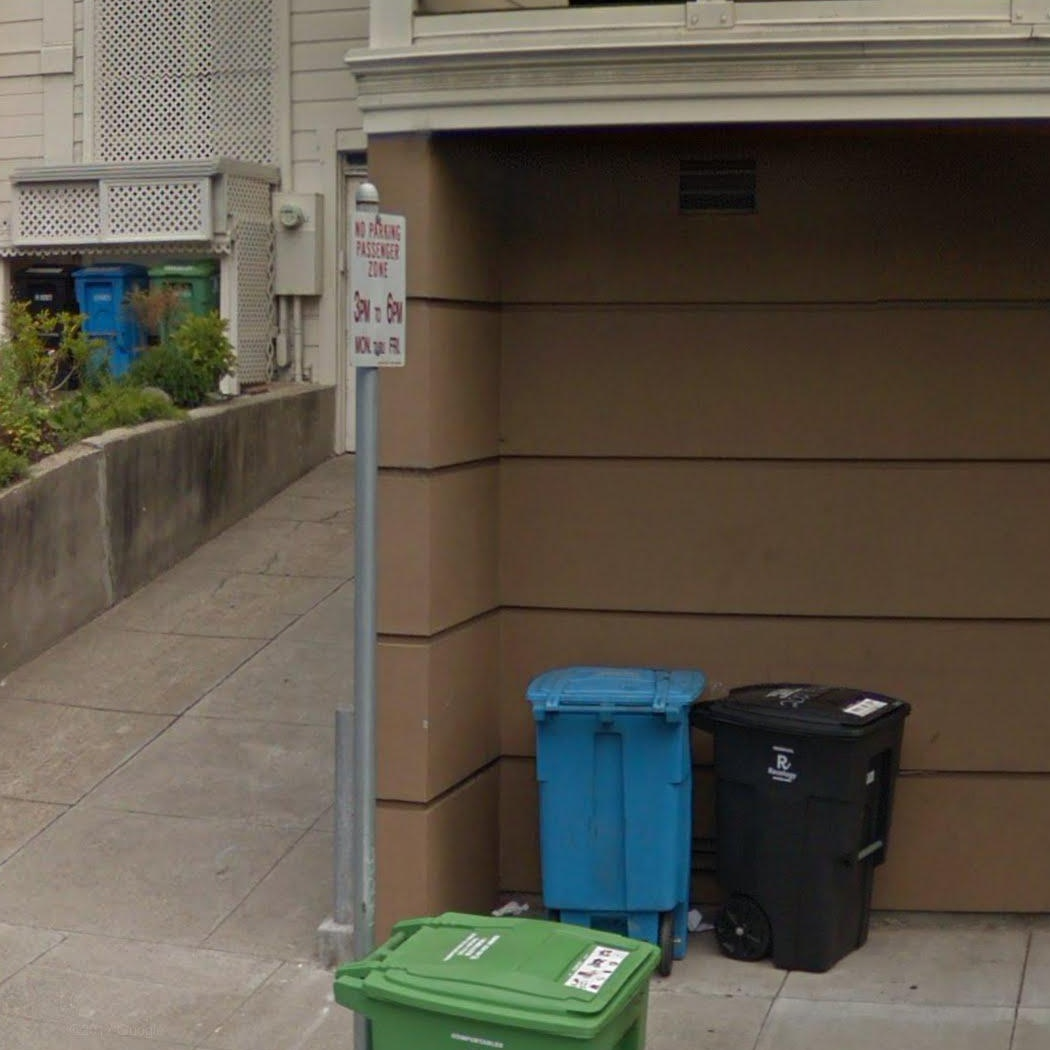No Parking: (344, 207, 408, 369)
